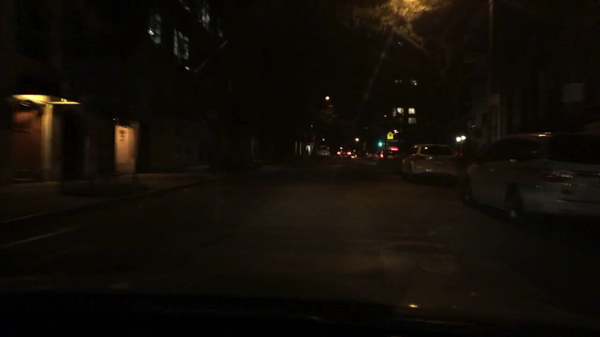car: (460, 131, 599, 228), (400, 143, 459, 184), (375, 149, 398, 166), (337, 149, 357, 159), (314, 147, 331, 157), (372, 152, 379, 162), (364, 152, 372, 158)
traffic light: (377, 141, 383, 147)
traffic sign: (386, 132, 394, 140)
